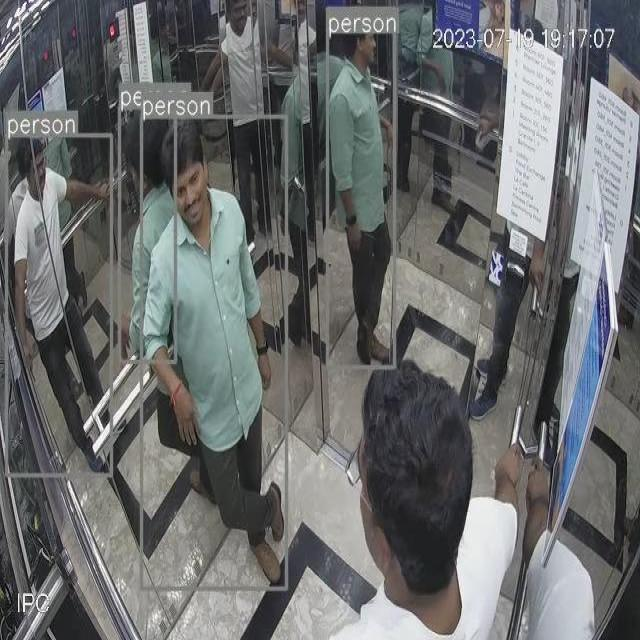person: (143, 116, 287, 588), (323, 361, 532, 639), (9, 136, 113, 473), (326, 14, 396, 367), (121, 87, 177, 361)
